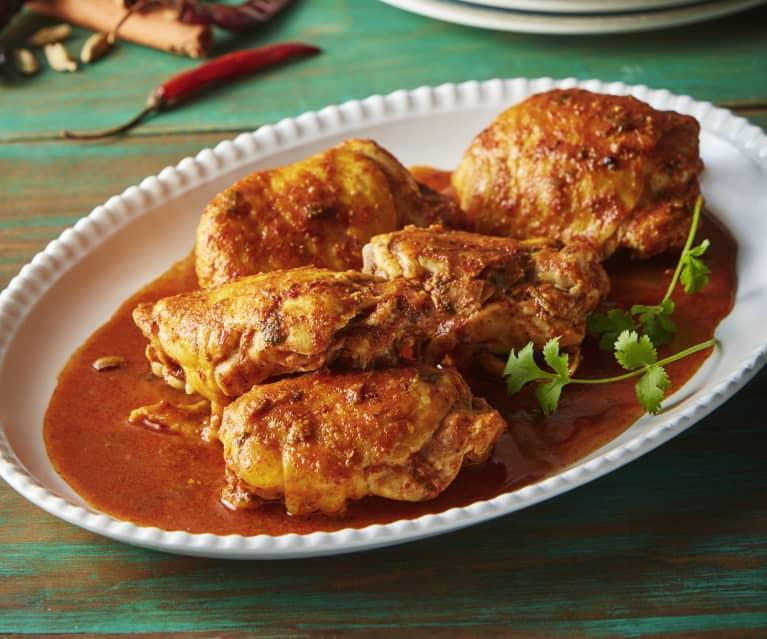chicken: (52, 134, 708, 473)
